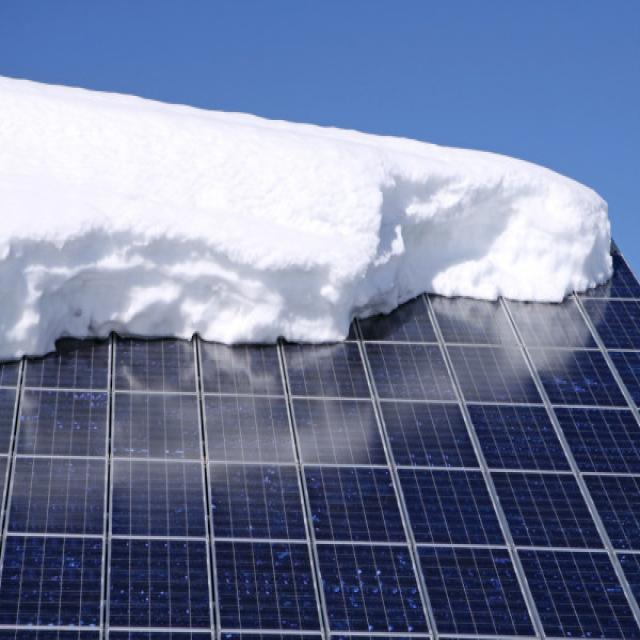Anomaly Solar Panel: (0, 181, 639, 387)
Snow: (0, 72, 614, 367), (580, 297, 639, 348)
